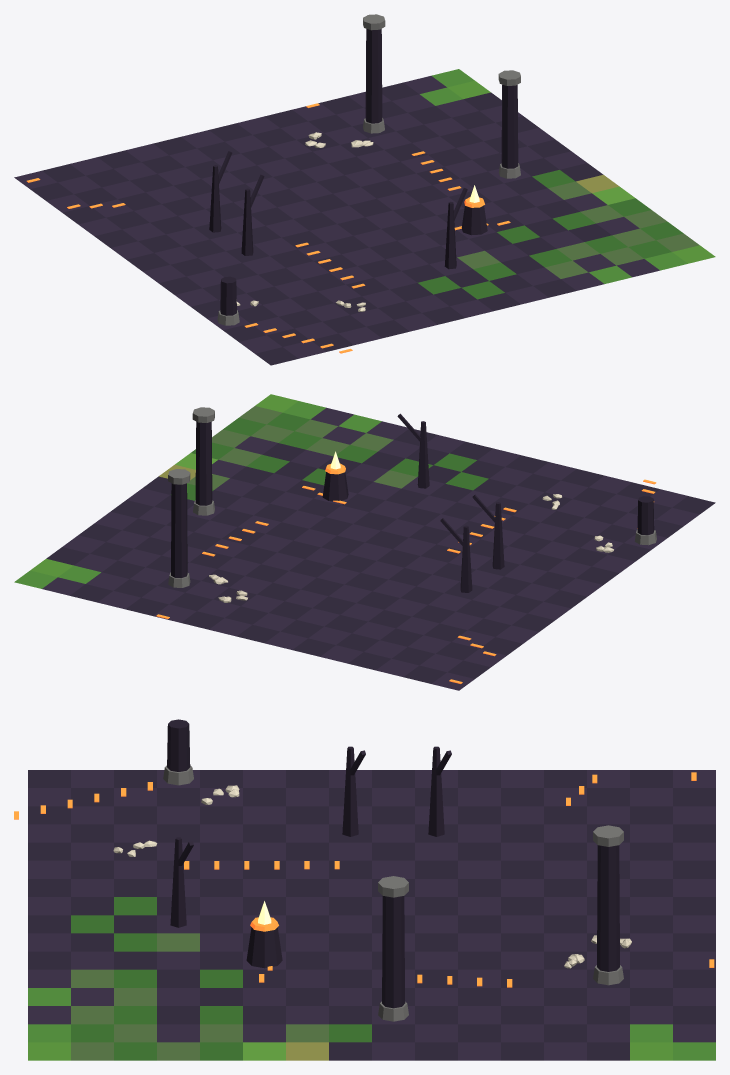
File: chunk_7_23.glb
The picture shows the model from 3 angles, top to bottom: view 1: azimuth 30°, elevation 25°; view 2: azimuth 150°, elevation 25°; view 3: azimuth 270°, elevation 25°; orthographic projection. The views are drawn at different scales.
Visible parts, largest first — view 1: chunk_7_23; view 2: chunk_7_23; view 3: chunk_7_23.
Part boxes in pixels (<box>): chunk_7_23: <box>14,14,715,365</box>; chunk_7_23: <box>14,394,715,690</box>; chunk_7_23: <box>14,719,715,1060</box>.
Bounding box in the file's own units: 16 × 3.93 × 16.33.
